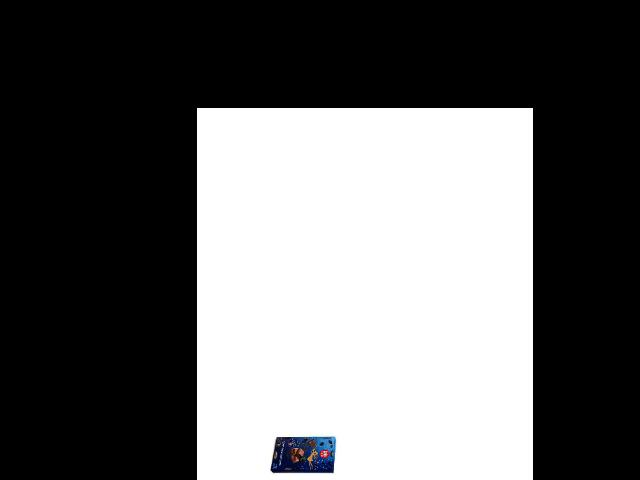chocolate: (270, 432, 337, 477)
